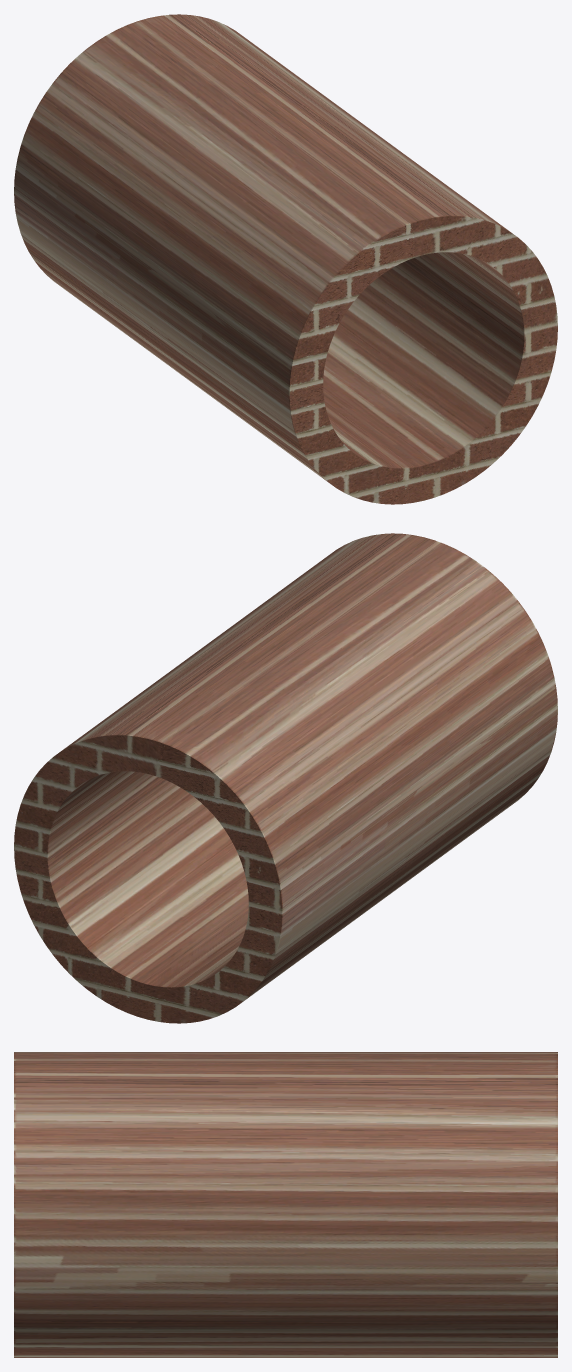
The model's file is BrickTubeExtended.fbx.
The picture shows the model from 3 angles, top to bottom: view 1: azimuth 30°, elevation 25°; view 2: azimuth 150°, elevation 25°; view 3: azimuth 270°, elevation 25°; orthographic projection.
Visible parts, largest first — view 1: root; view 2: root; view 3: root.
Boxes of the visible parts, x1,y1,x2,y2 form: root: (14, 14, 557, 504); root: (14, 533, 557, 1023); root: (14, 1052, 557, 1357).
Bounding box in the file's own units: 0.3706 × 0.3706 × 0.6592.
1 material, 1 textured.
